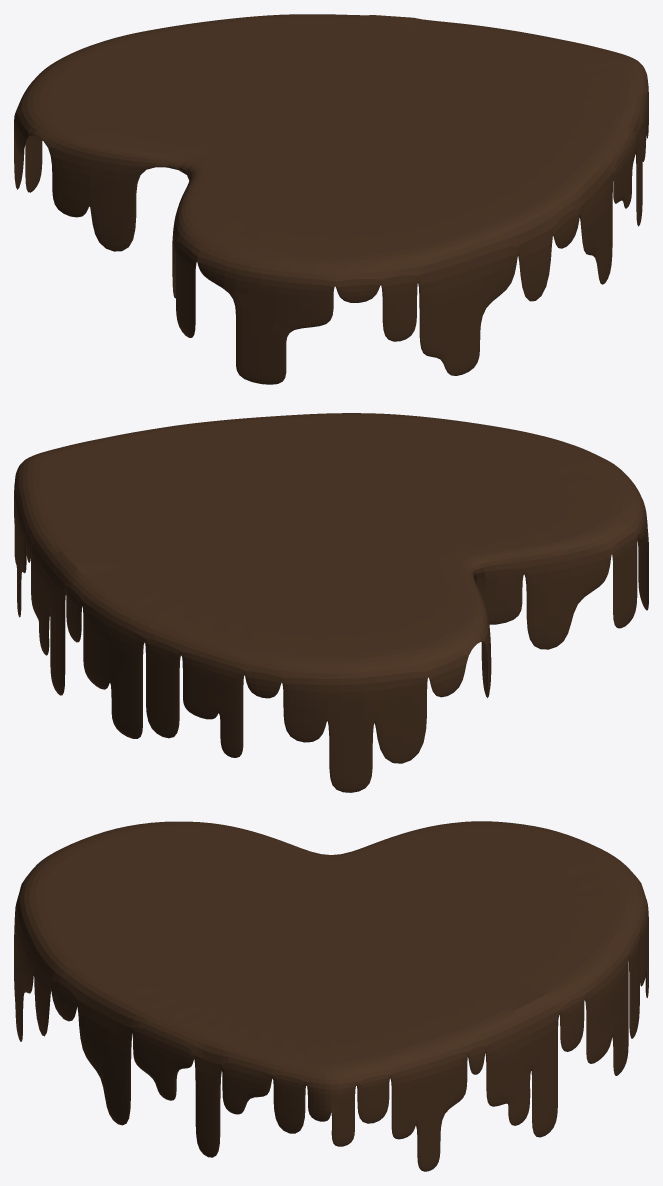
The model's file is GlazeChoco.glb.
3 views of the same model, one above another, from view 1: azimuth 30°, elevation 25°; view 2: azimuth 150°, elevation 25°; view 3: azimuth 270°, elevation 25° (orthographic).
Visible parts, largest first — view 1: Cylinder.008; view 2: Cylinder.008; view 3: Cylinder.008.
Boxes of the visible parts, <box> form: Cylinder.008: <box>14,14,648,384</box>; Cylinder.008: <box>14,413,648,792</box>; Cylinder.008: <box>14,821,648,1171</box>.
Bounding box in the file's own units: 1.63 × 0.3791 × 1.66.
